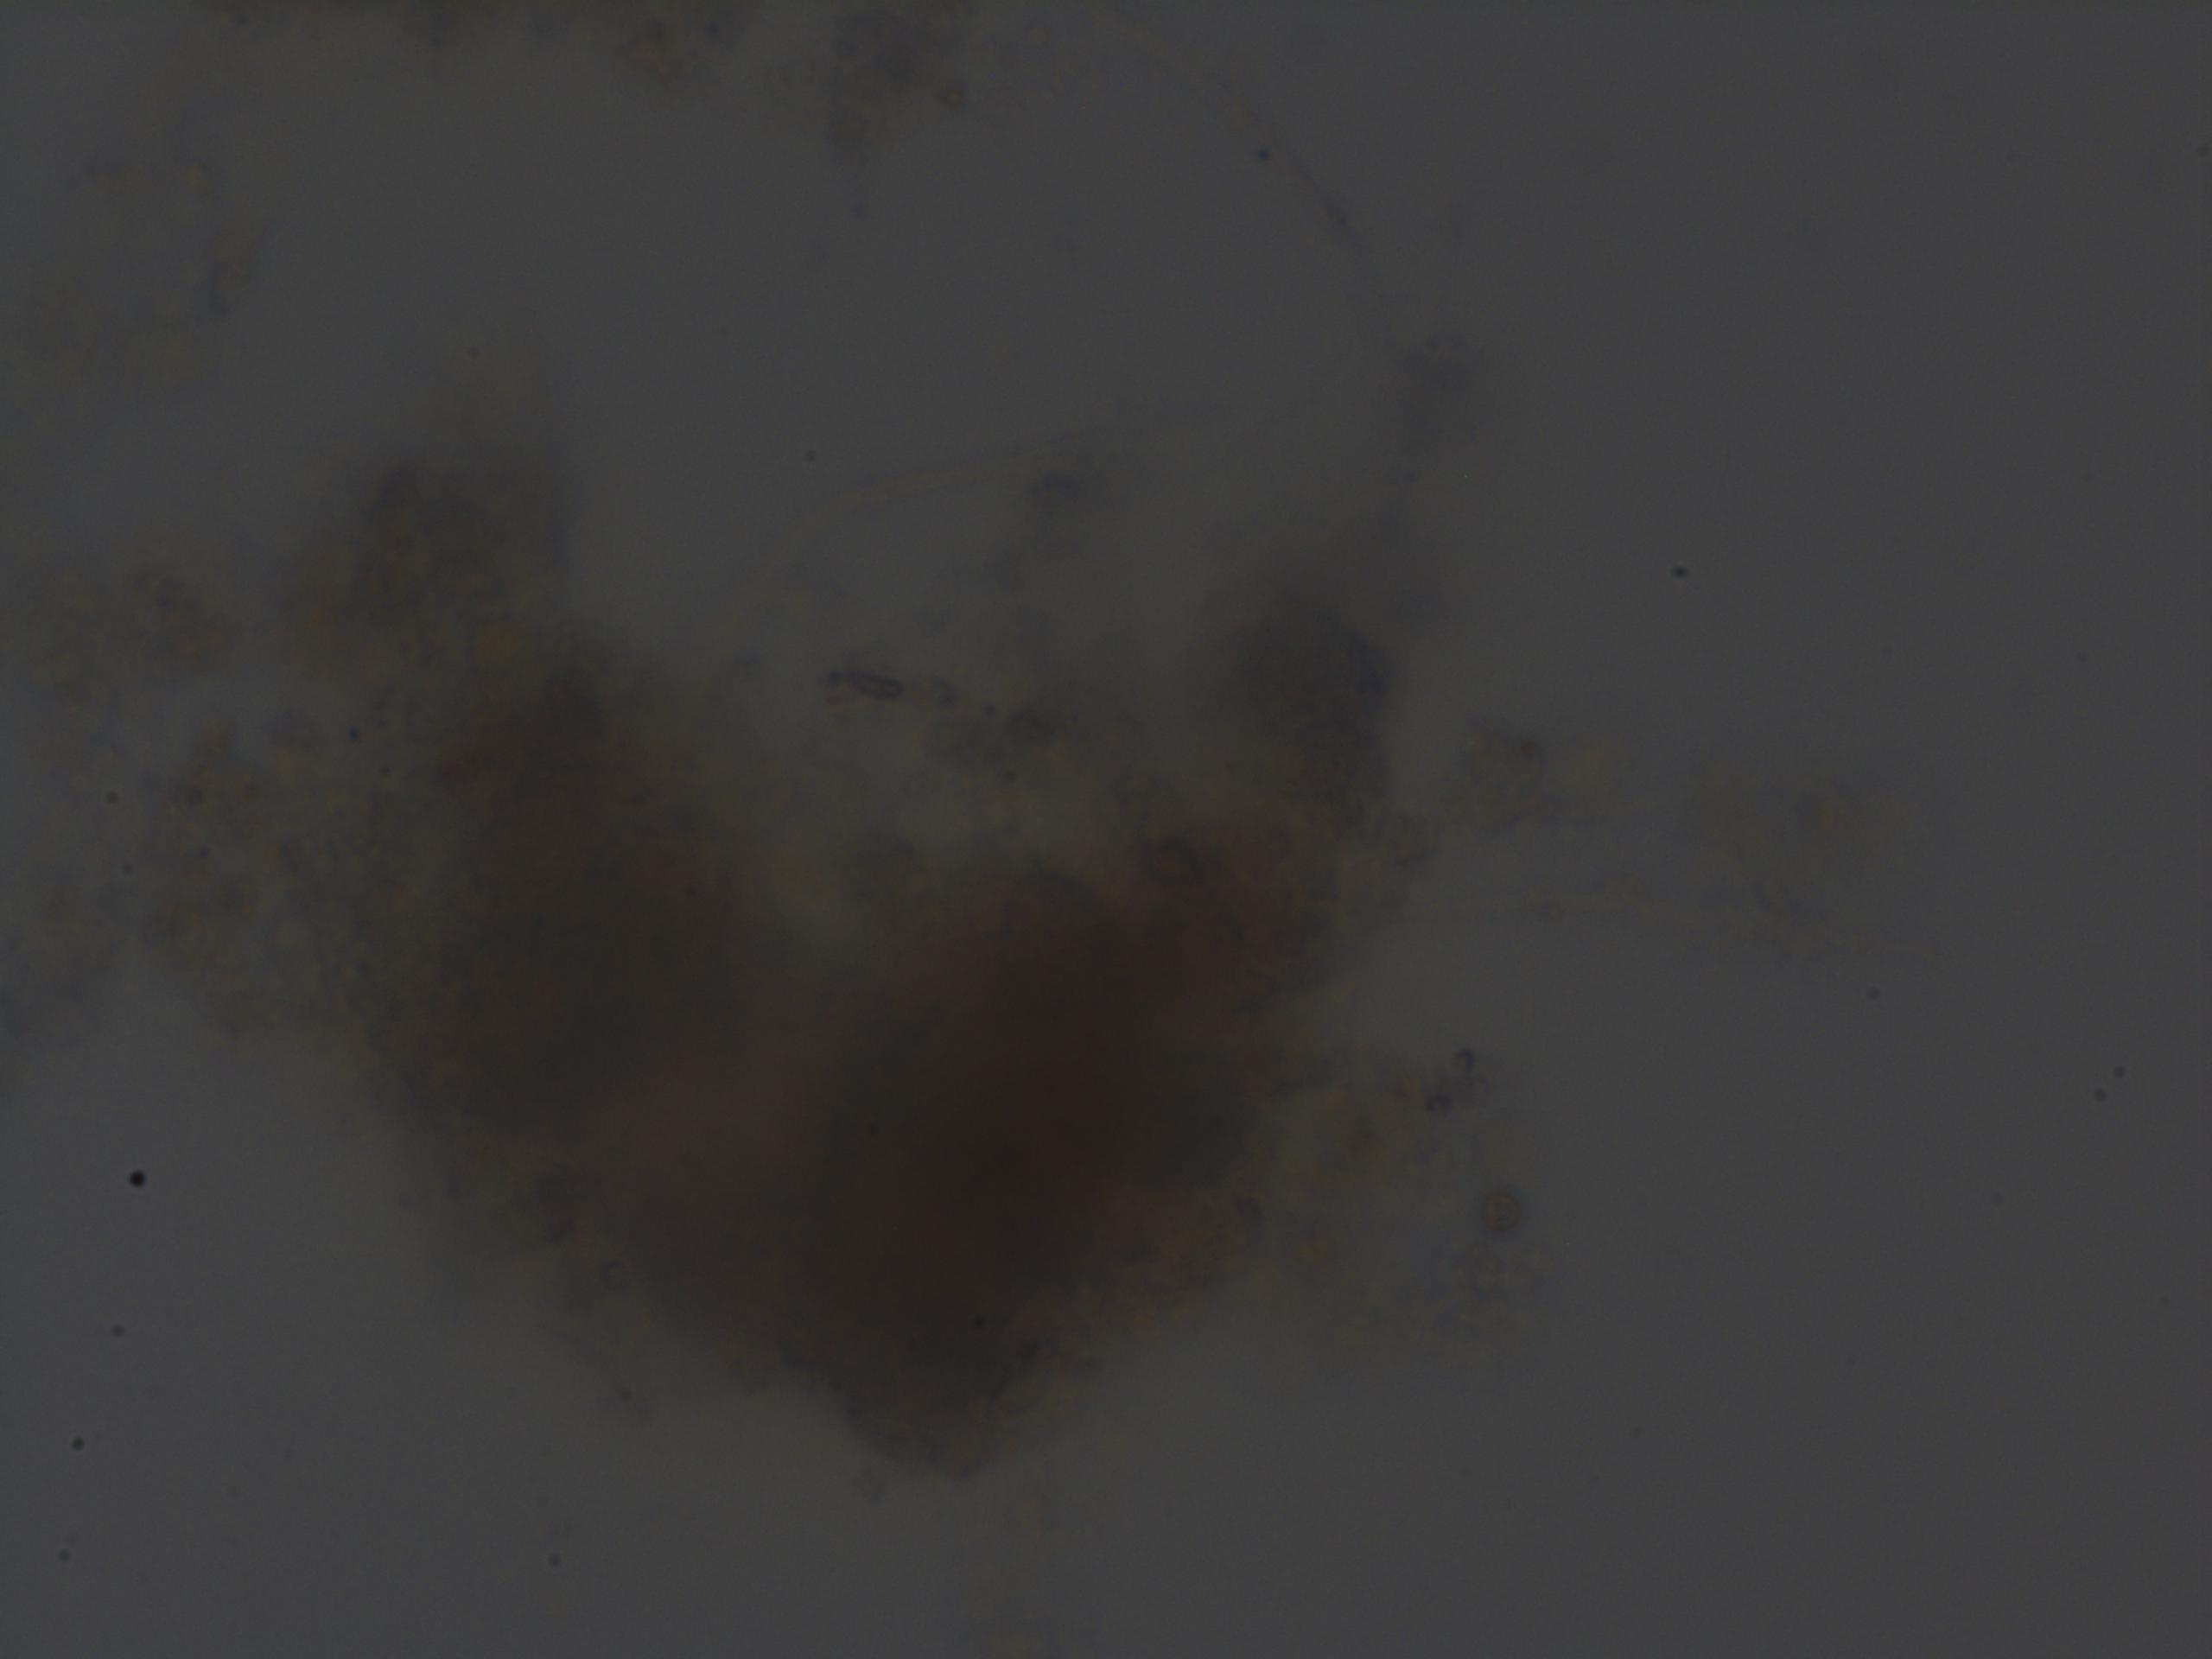filament: (639, 427, 1163, 760), (1055, 0, 1395, 329)
spherical_floc: (249, 601, 1418, 1509)
